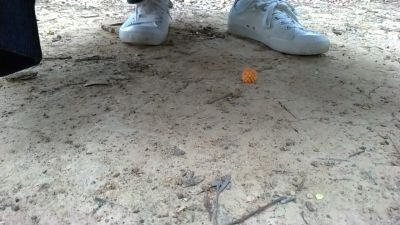eggs: (240, 65, 259, 89)
